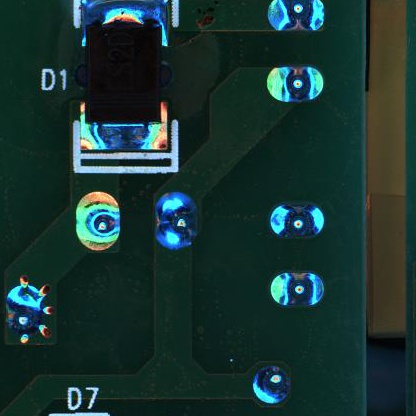spot: (6, 274, 55, 346), (77, 192, 123, 255), (154, 190, 200, 252), (271, 270, 325, 309), (267, 67, 326, 102), (265, 1, 326, 34), (271, 203, 325, 240), (253, 366, 290, 405)
